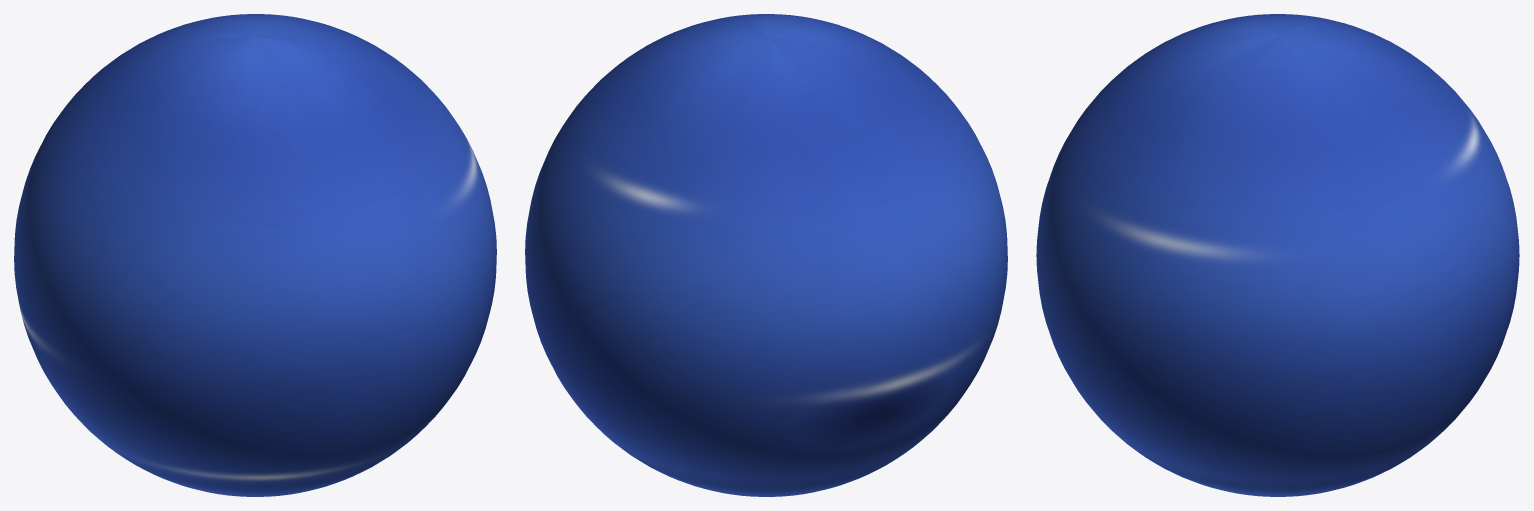
Rendered from planet_neptune.glb.
3 renders of one model, left to right at view 1: azimuth 30°, elevation 25°; view 2: azimuth 150°, elevation 25°; view 3: azimuth 270°, elevation 25°, orthographic.
Parts seen in each view (by area): view 1: planet_neptune; view 2: planet_neptune; view 3: planet_neptune.
Part boxes in pixels (x1,y1,x2,y2): planet_neptune: (14,14,496,496); planet_neptune: (525,14,1007,496); planet_neptune: (1036,14,1519,496).
Bounding box in the file's own units: 1 × 1 × 1.
1 material, 1 textured.
